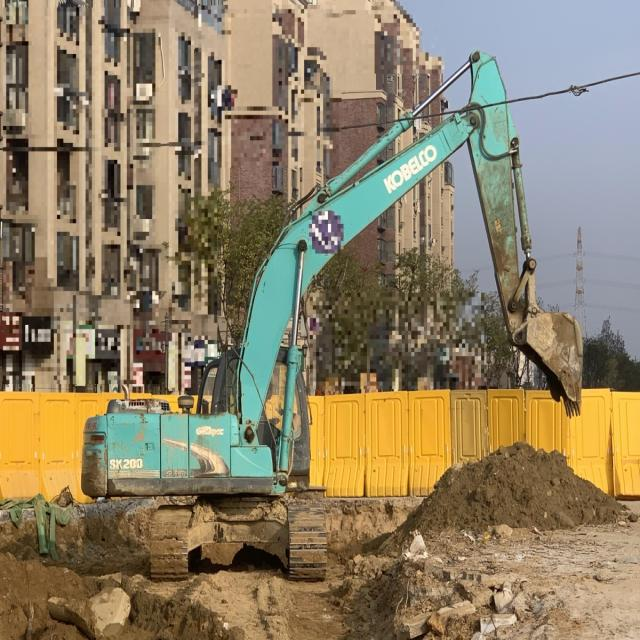excavator: (80, 48, 583, 583)
